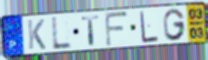F: (104, 11, 130, 48)
G: (162, 8, 187, 42)
K: (26, 18, 47, 50)
L: (51, 16, 74, 51), (139, 10, 160, 45)
T: (80, 14, 101, 47)
